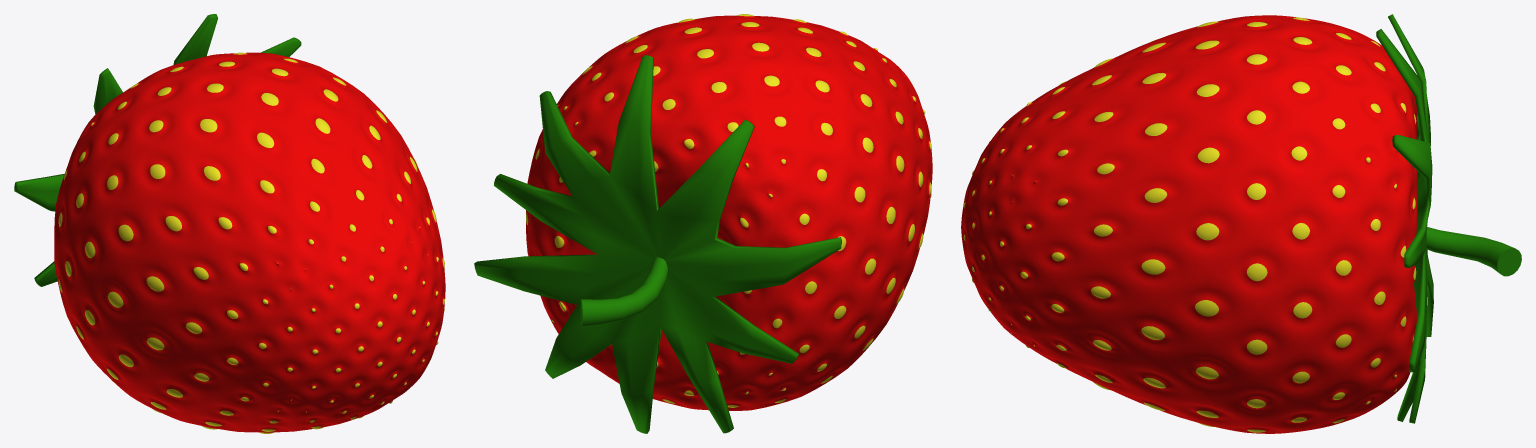
File: m_Strawberry.fbx
3 views of the same model, side by side, from view 1: azimuth 30°, elevation 25°; view 2: azimuth 150°, elevation 25°; view 3: azimuth 270°, elevation 25° (orthographic). The views are drawn at different scales.
Parts seen in each view (by area): view 1: Circle; view 2: Circle; view 3: Circle.
Boxes of the visible parts, x1,y1,x2,y2 form: Circle: (14,14,445,433); Circle: (474,14,932,433); Circle: (961,14,1521,433).
Size of the model in its own units: 11.24 by 11.1 by 14.37.
